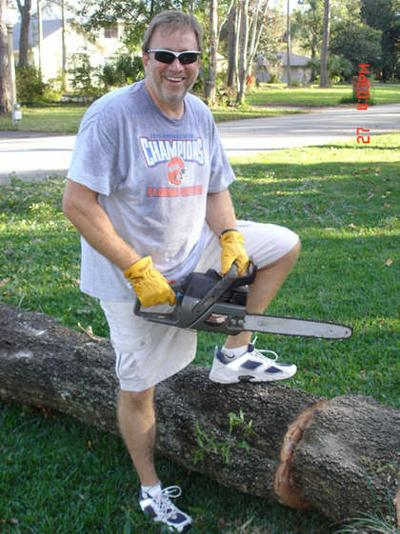person: (60, 10, 305, 533)
